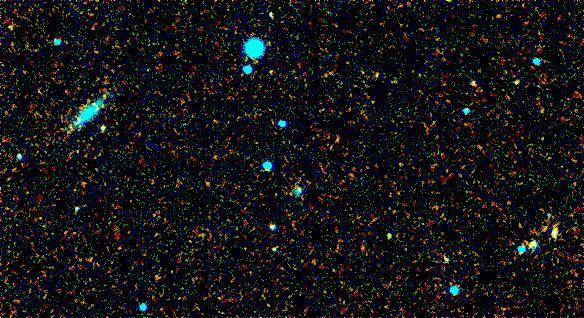star: (496, 67, 526, 97)
